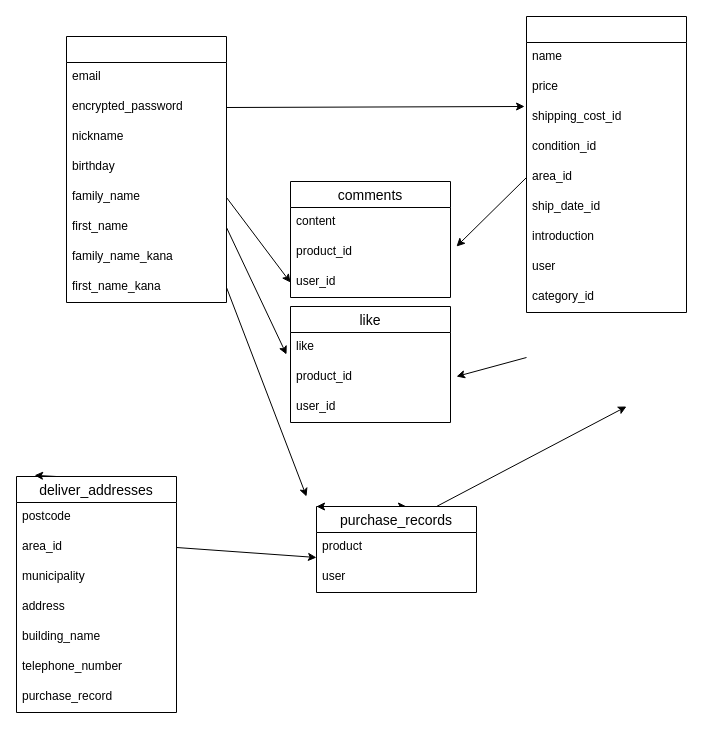
Image size: 703x729. Some labels were removed from this diagram. Here are the shapes that lost their labels. From the top down, the box of each, then its label:
(66, 36, 226, 302): users
(526, 16, 686, 312): products
